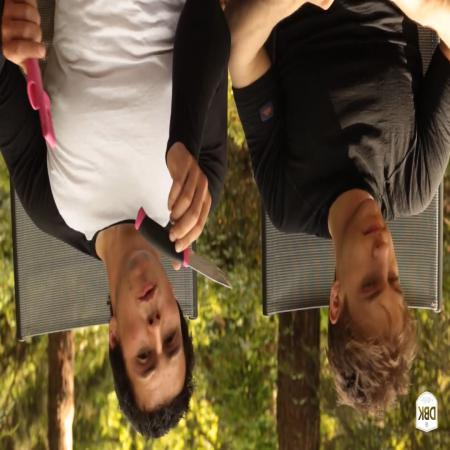long weapon: (132, 197, 236, 295)
